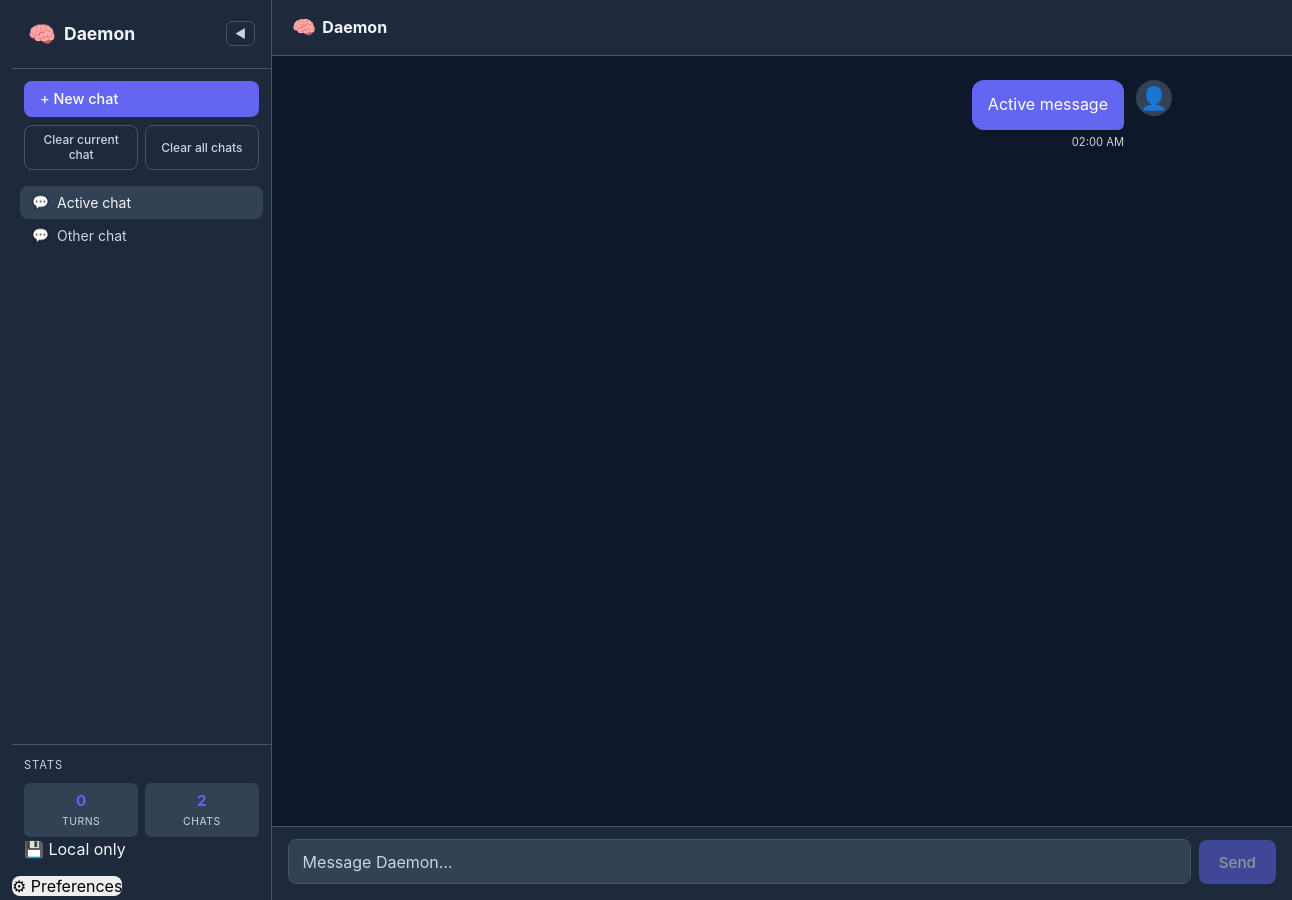
Test: DaemonInterface › a completed response does not steal the visible pane after the user switches chats
Type "message while active" into the text box with placeholder "Message Daemon…" at [739, 862], box [288,839,1191,884]
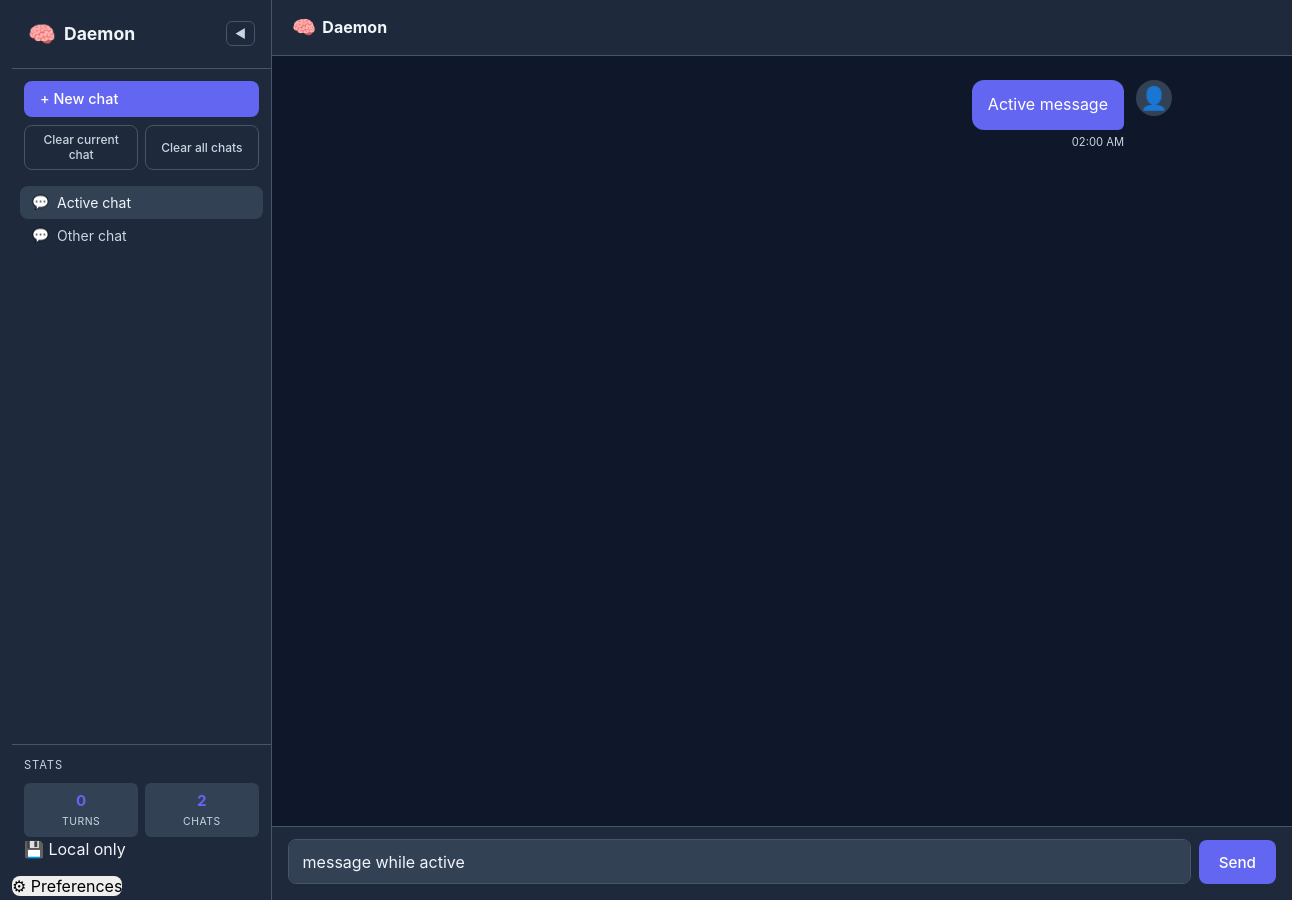
Click the button with aria-label "Send message" at [1237, 862], box [1199,840,1276,884]
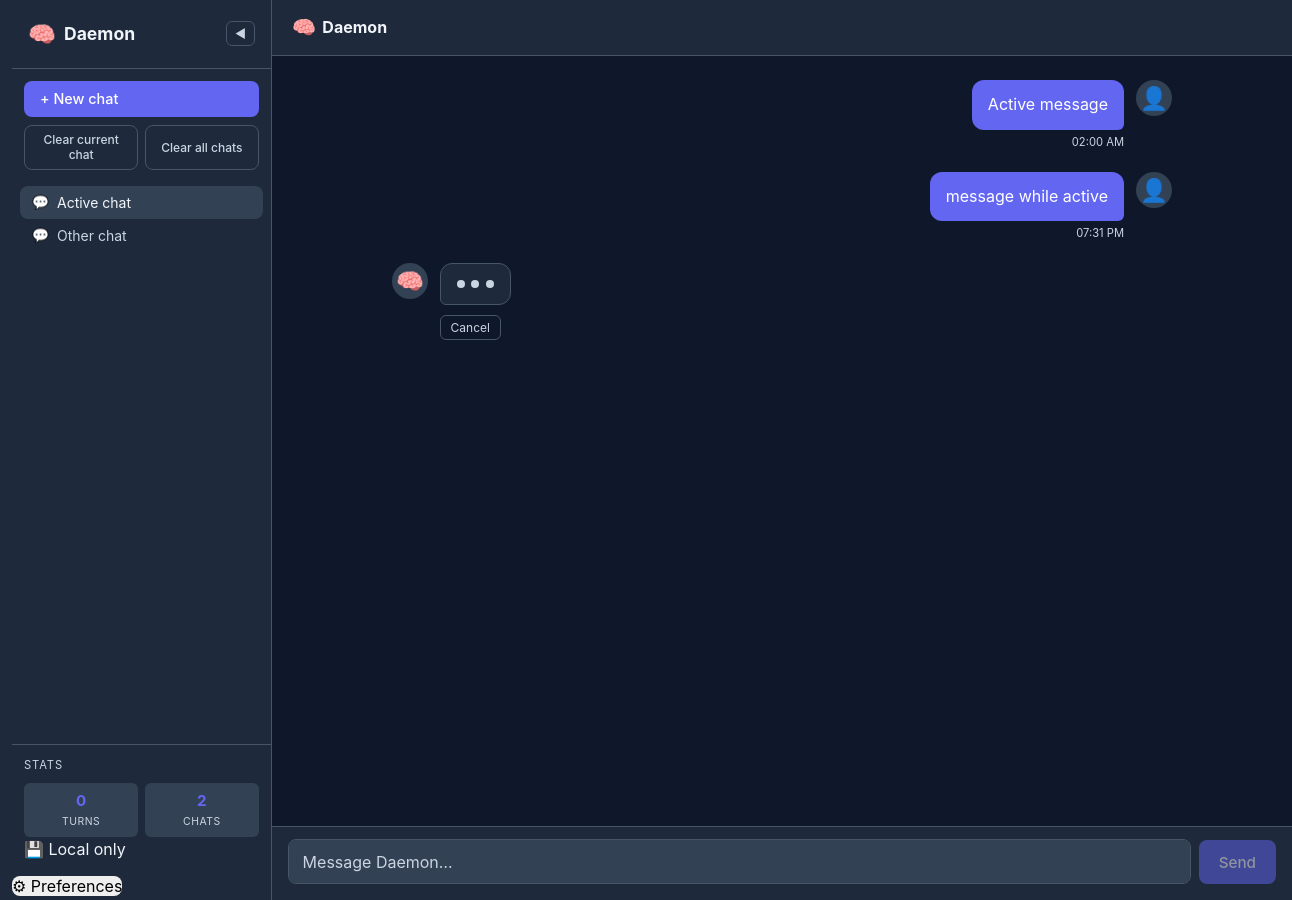
Click the button "💬 Other chat" at [142, 235], box [20,219,263,252]
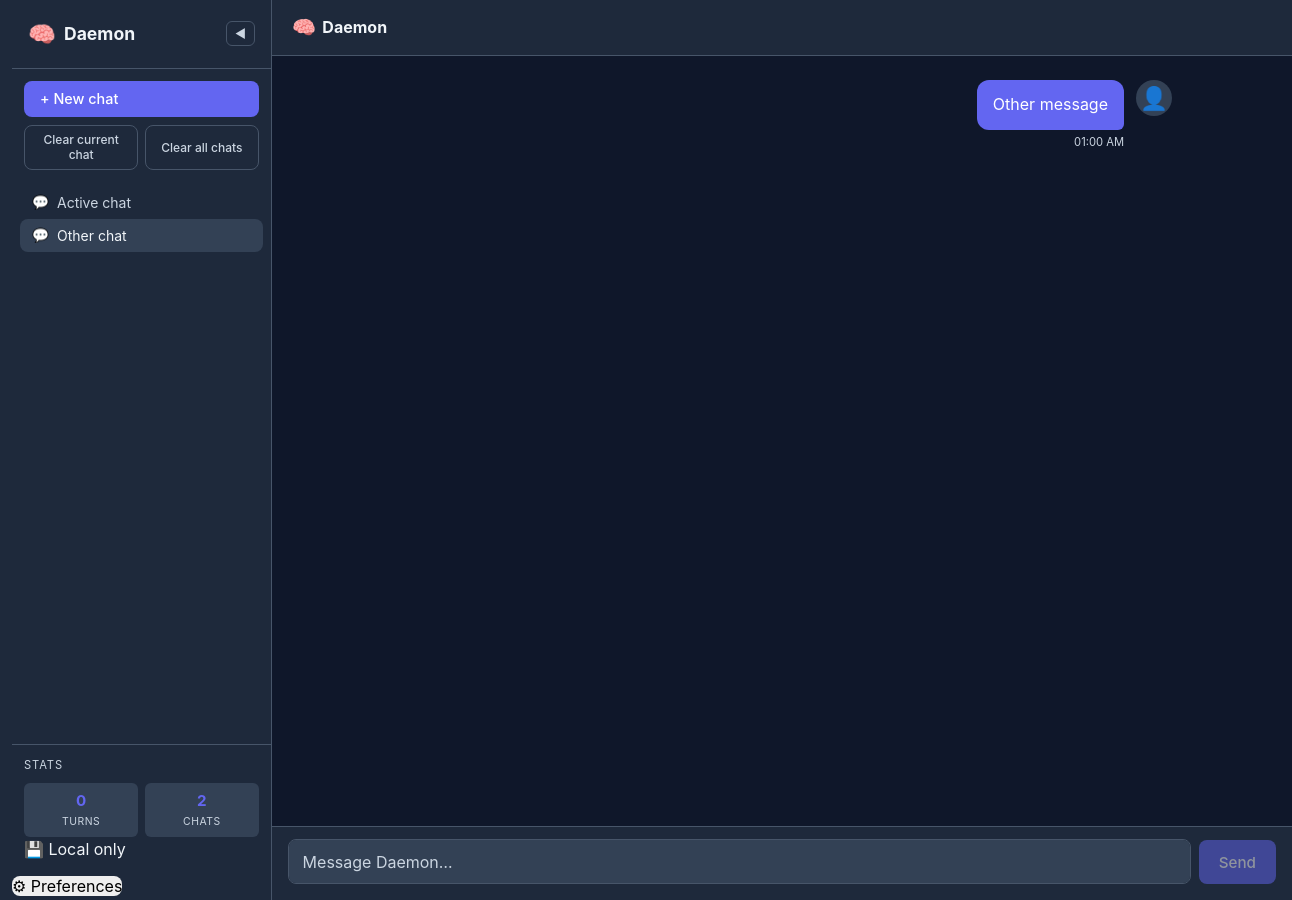
Check: the text "Other message" is shown, box [993,92,1108,118]
Check: the text "message while active" is gone
